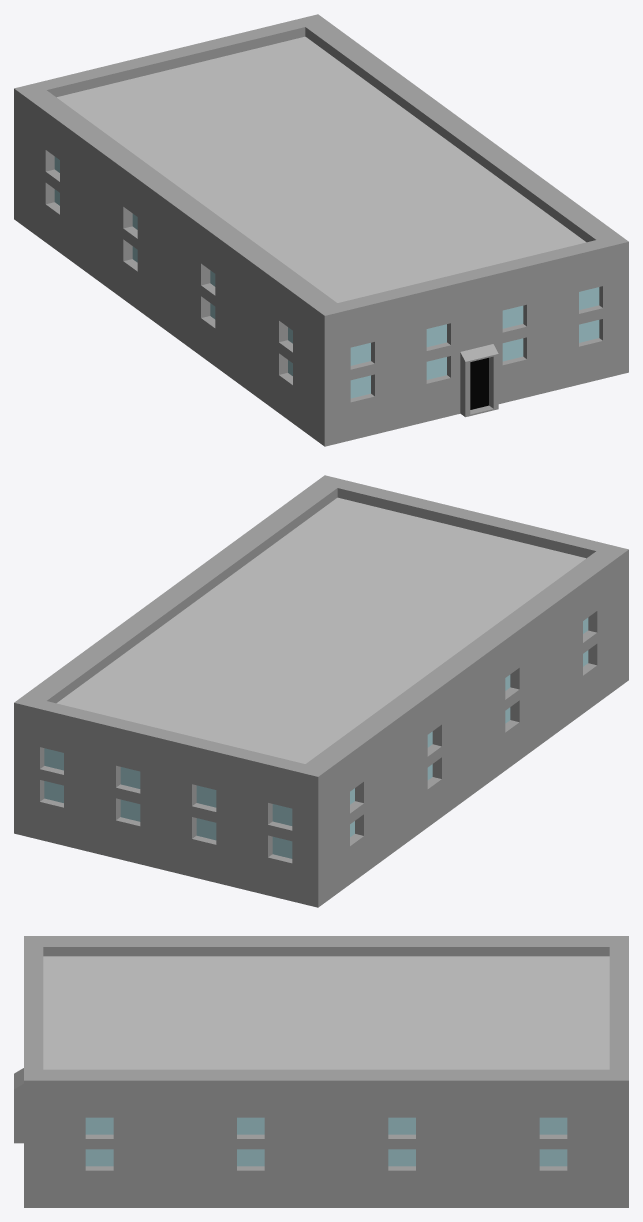
Rendered from Barracks.fbx.
The picture shows the model from 3 angles, top to bottom: view 1: azimuth 30°, elevation 25°; view 2: azimuth 150°, elevation 25°; view 3: azimuth 270°, elevation 25°; orthographic projection. The views are drawn at different scales.
Parts seen in each view (by area): view 1: polySurface4; view 2: polySurface4; view 3: polySurface4.
Boxes of the visible parts, bbox=[...] form: polySurface4: bbox=[14, 14, 628, 446]; polySurface4: bbox=[14, 475, 628, 907]; polySurface4: bbox=[14, 936, 628, 1207].
Size of the model in its own units: 0.54 by 0.2219 by 0.9715.
